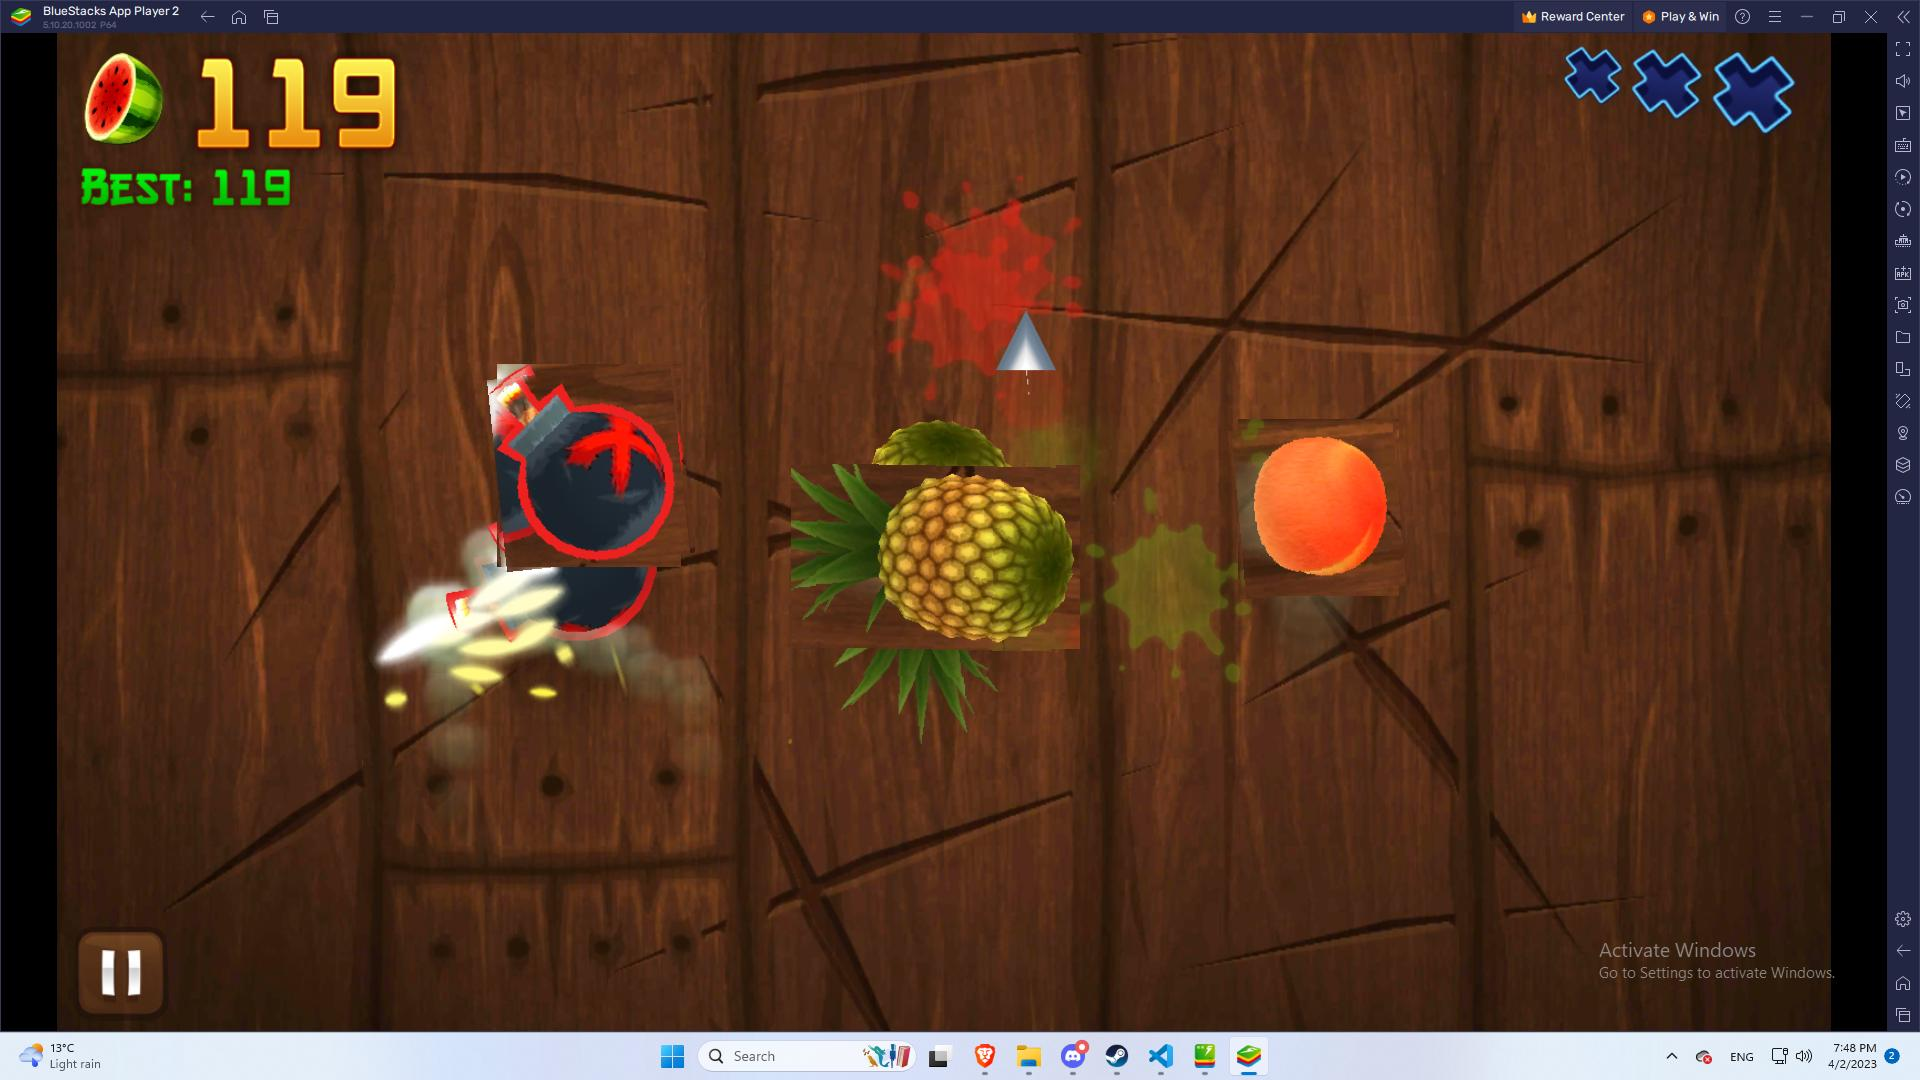bomb: (487, 365, 690, 568)
fruit: (815, 438, 1055, 678), (1230, 419, 1407, 596)
